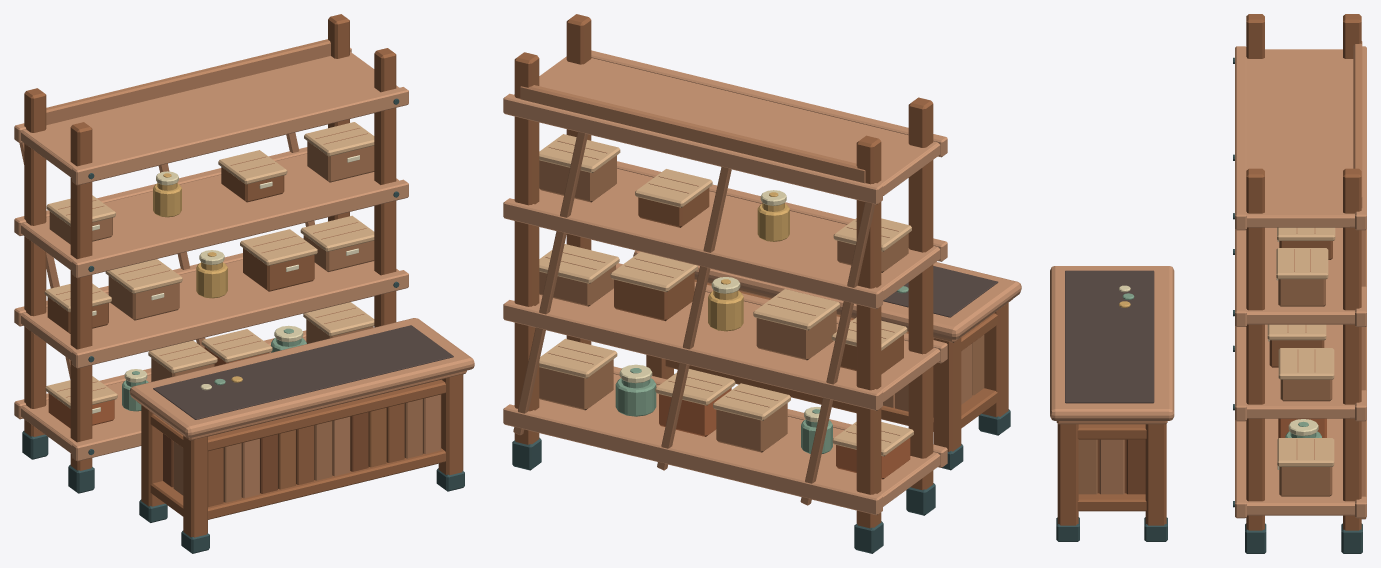
The model's file is wsc-arch-006-shop-interior-kit.glb.
3 views of the same model, side by side, from view 1: azimuth 30°, elevation 25°; view 2: azimuth 150°, elevation 25°; view 3: azimuth 270°, elevation 25° (orthographic). The views are drawn at different scales.
Visible parts, largest first — view 1: Stock shelving / Planed apricot oak, Stock shelving / Oak 0, Oak display counter / Oak 0, Stock shelving / Pale raw box lid, Oak display counter / Dark countercloth, Oak display counter / Planed apricot oak, Stock shelving / Oak 2, Stock shelving / Oak 1, Oak display counter / Oak 2, Oak display counter / Oak 1, Oak display counter / Oak 3, Oak display counter / Oak 4 (+6 smaller); view 2: Stock shelving / Planed apricot oak, Stock shelving / Oak 0, Stock shelving / Pale raw box lid, Stock shelving / Oak 2, Stock shelving / Oak 1, Oak display counter / Oak 0, Oak display counter / Planed apricot oak, Stock shelving / Burnt clay crate, Stock shelving / Ochre glazed pot, Oak display counter / Dark countercloth, Stock shelving / Shale cast iron, Stock shelving / Celadon glazed pot (+4 smaller); view 3: Stock shelving / Planed apricot oak, Stock shelving / Oak 0, Oak display counter / Dark countercloth, Oak display counter / Planed apricot oak, Stock shelving / Pale raw box lid, Oak display counter / Oak 0, Stock shelving / Oak 1, Stock shelving / Oak 2, Oak display counter / Oak 2, Oak display counter / Oak 3, Stock shelving / Shale cast iron, Oak display counter / Oak 1 (+3 smaller).
Boxes of the visible parts, <box> form: Stock shelving / Planed apricot oak: <box>14,48,408,461</box>; Stock shelving / Oak 0: <box>24,14,396,470</box>; Oak display counter / Oak 0: <box>141,374,463,537</box>; Stock shelving / Pale raw box lid: <box>44,122,374,408</box>; Oak display counter / Dark countercloth: <box>153,325,453,419</box>; Oak display counter / Planed apricot oak: <box>129,318,474,437</box>; Stock shelving / Oak 2: <box>19,39,367,397</box>; Stock shelving / Oak 1: <box>49,141,374,381</box>; Oak display counter / Oak 2: <box>138,370,466,498</box>; Oak display counter / Oak 1: <box>223,399,422,502</box>; Oak display counter / Oak 3: <box>163,394,441,493</box>; Oak display counter / Oak 4: <box>278,408,386,489</box>; Stock shelving / Planed apricot oak: <box>503,50,947,515</box>; Stock shelving / Oak 0: <box>514,14,933,528</box>; Stock shelving / Pale raw box lid: <box>539,134,913,456</box>; Stock shelving / Oak 2: <box>513,85,899,505</box>; Stock shelving / Oak 1: <box>539,155,908,452</box>; Oak display counter / Oak 0: <box>646,280,1008,451</box>; Oak display counter / Planed apricot oak: <box>633,250,1021,339</box>; Stock shelving / Burnt clay crate: <box>659,388,910,479</box>; Stock shelving / Ochre glazed pot: <box>708,192,789,331</box>; Oak display counter / Dark countercloth: <box>883,266,998,317</box>; Stock shelving / Shale cast iron: <box>512,437,935,553</box>; Stock shelving / Celadon glazed pot: <box>615,368,832,453</box>; Stock shelving / Planed apricot oak: <box>1235,46,1366,518</box>; Stock shelving / Oak 0: <box>1246,14,1361,530</box>; Oak display counter / Dark countercloth: <box>1065,270,1154,403</box>; Oak display counter / Planed apricot oak: <box>1050,266,1174,420</box>; Stock shelving / Pale raw box lid: <box>1267,227,1335,466</box>; Oak display counter / Oak 0: <box>1057,424,1166,525</box>; Stock shelving / Oak 1: <box>1278,279,1332,496</box>; Stock shelving / Oak 2: <box>1287,41,1366,519</box>; Oak display counter / Oak 2: <box>1056,421,1167,494</box>; Oak display counter / Oak 3: <box>1097,439,1145,494</box>; Stock shelving / Shale cast iron: <box>1233,57,1362,553</box>; Oak display counter / Oak 1: <box>1078,439,1097,494</box>.
Bounding box in the file's own units: 2.74 × 2.86 × 2.16.
